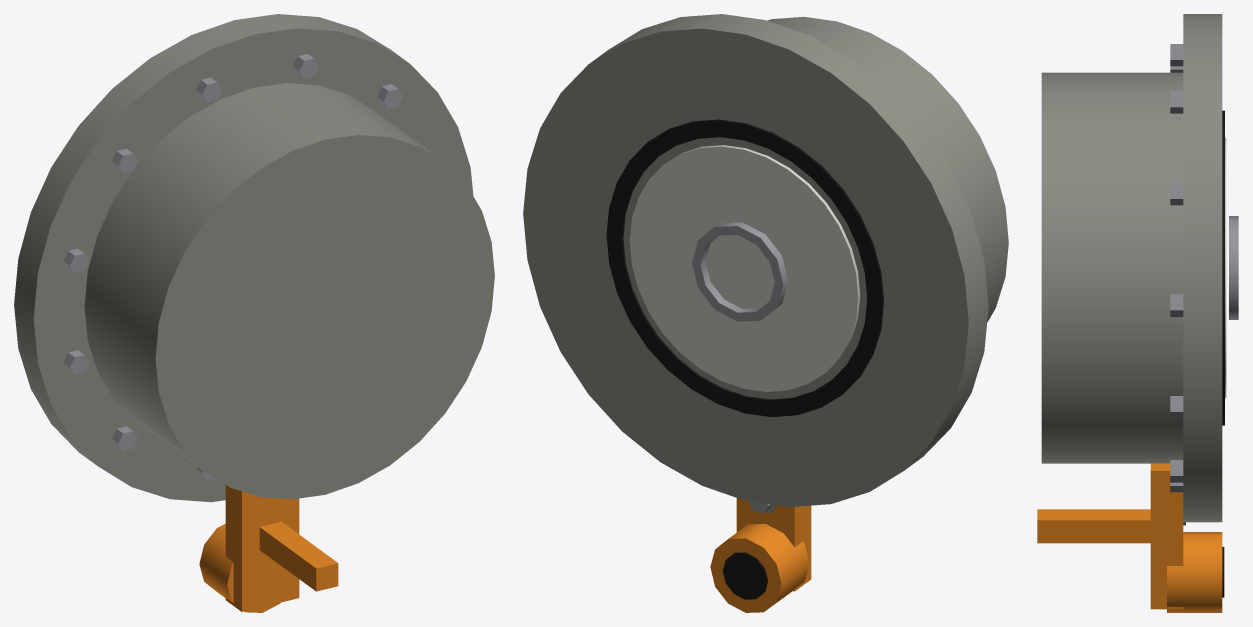
File: refuge100_flange.obj
3 views of the same model, side by side, from view 1: azimuth 30°, elevation 25°; view 2: azimuth 150°, elevation 25°; view 3: azimuth 270°, elevation 25° (orthographic).
Visible parts, largest first — view 1: refuge100_flange; view 2: refuge100_flange; view 3: refuge100_flange.
Part boxes in pixels (x1=…): refuge100_flange: x1=14, y1=14, x2=494, y2=612; refuge100_flange: x1=523, y1=14, x2=1008, y2=612; refuge100_flange: x1=1037, y1=14, x2=1238, y2=612.
Bounding box in the file's own units: 1.56 × 1.93 × 0.6176.
